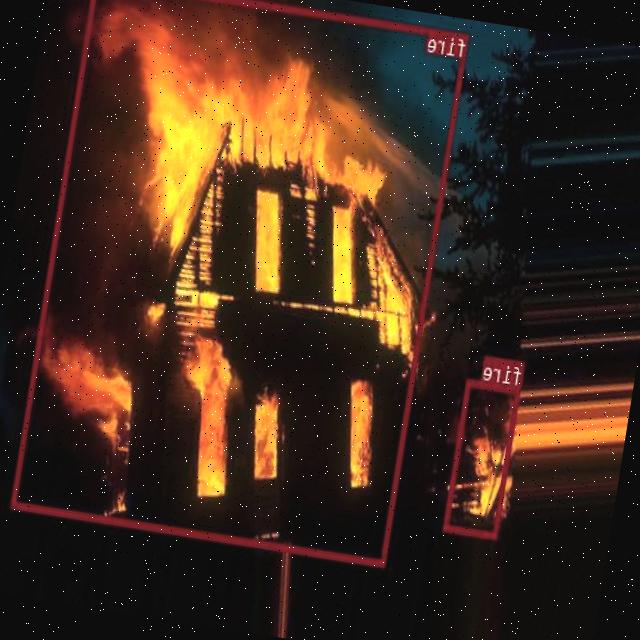fire: (11, 0, 470, 567), (444, 378, 522, 538)
